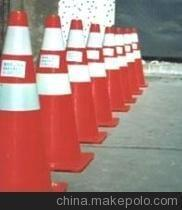cone_barrel: (34, 6, 76, 172), (64, 17, 97, 140), (85, 19, 112, 123), (102, 24, 124, 109)
